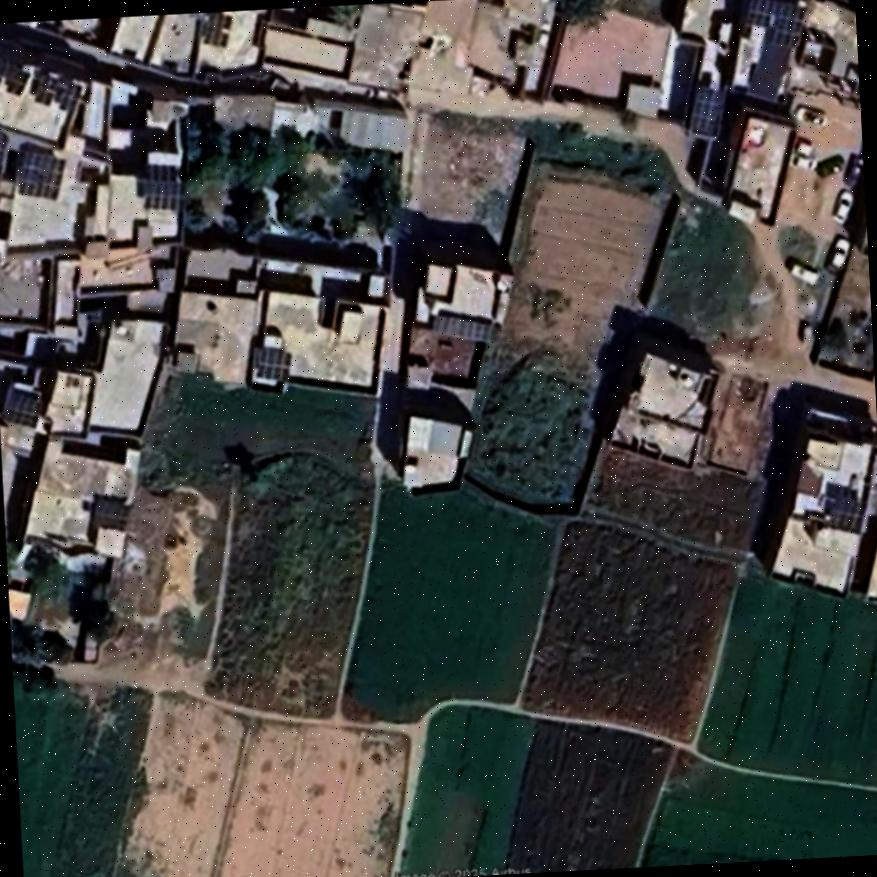Solarpanel: (742, 0, 805, 44), (15, 150, 62, 198), (428, 314, 499, 340), (687, 85, 722, 136), (1, 390, 40, 426), (827, 496, 865, 532), (91, 500, 134, 531), (139, 176, 181, 206), (255, 347, 288, 380)
